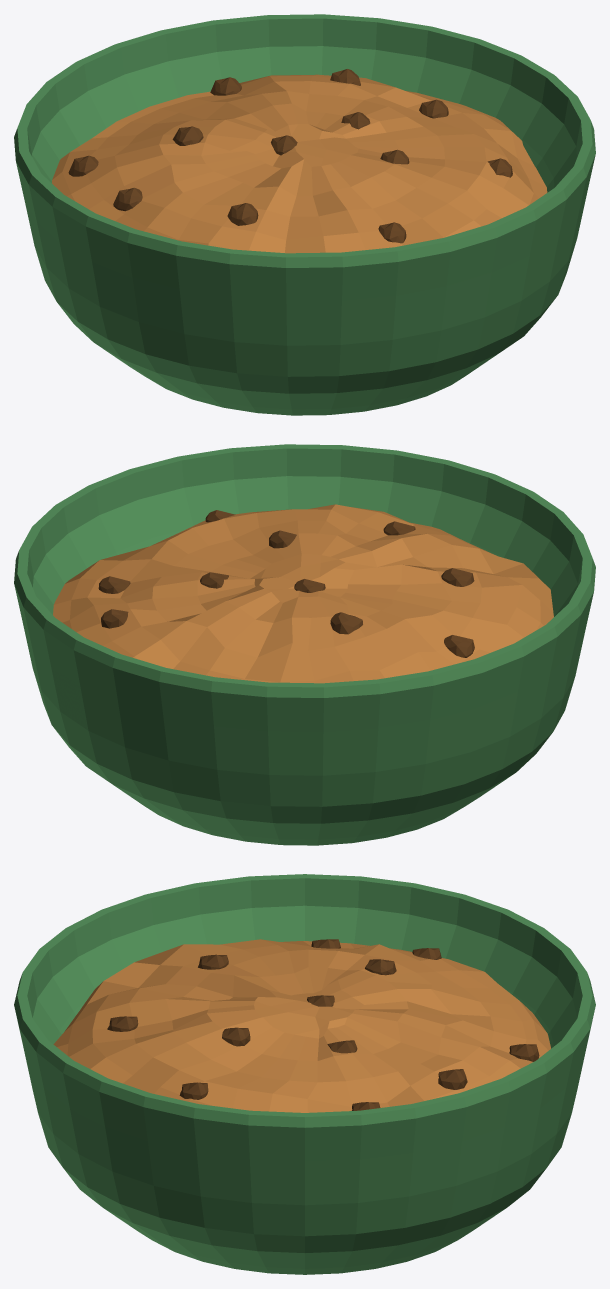
Rendered from milkCookieDoughBowl.fbx.
3 views of the same model, one above another, from view 1: azimuth 30°, elevation 25°; view 2: azimuth 150°, elevation 25°; view 3: azimuth 270°, elevation 25° (orthographic).
Parts seen in each view (by area): view 1: Cylinder, Sphere; view 2: Cylinder, Sphere; view 3: Cylinder, Sphere.
Part boxes in pixels (x1=…): Cylinder: x1=14, y1=14, x2=595, y2=415; Sphere: x1=52, y1=69, x2=547, y2=253; Cylinder: x1=14, y1=444, x2=595, y2=845; Sphere: x1=53, y1=504, x2=553, y2=683; Cylinder: x1=14, y1=874, x2=595, y2=1274; Sphere: x1=53, y1=939, x2=550, y2=1112.
Bounding box in the file's own units: 652 × 249 × 652.
